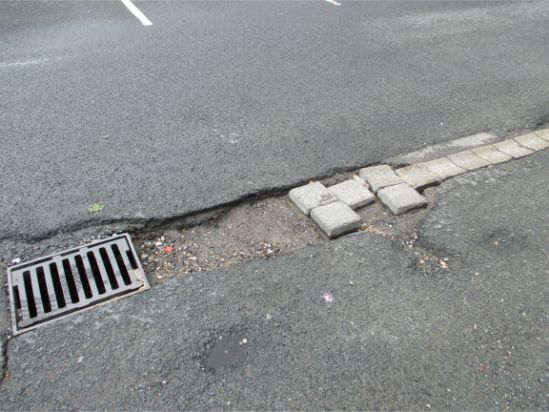pothole: (127, 158, 466, 281)
